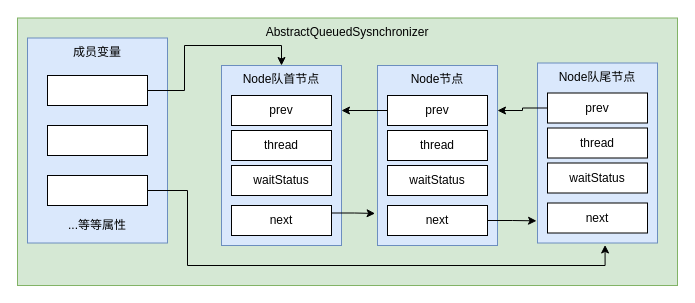
The diagram is 695 pixels wide and 303 high, and some of its shapes have lost their labels. Here are the shapes that lost their labels. From the top down, the centre of each, then its label:
the point at 97,90: head
the point at 97,140: state
the point at 97,190: tail
